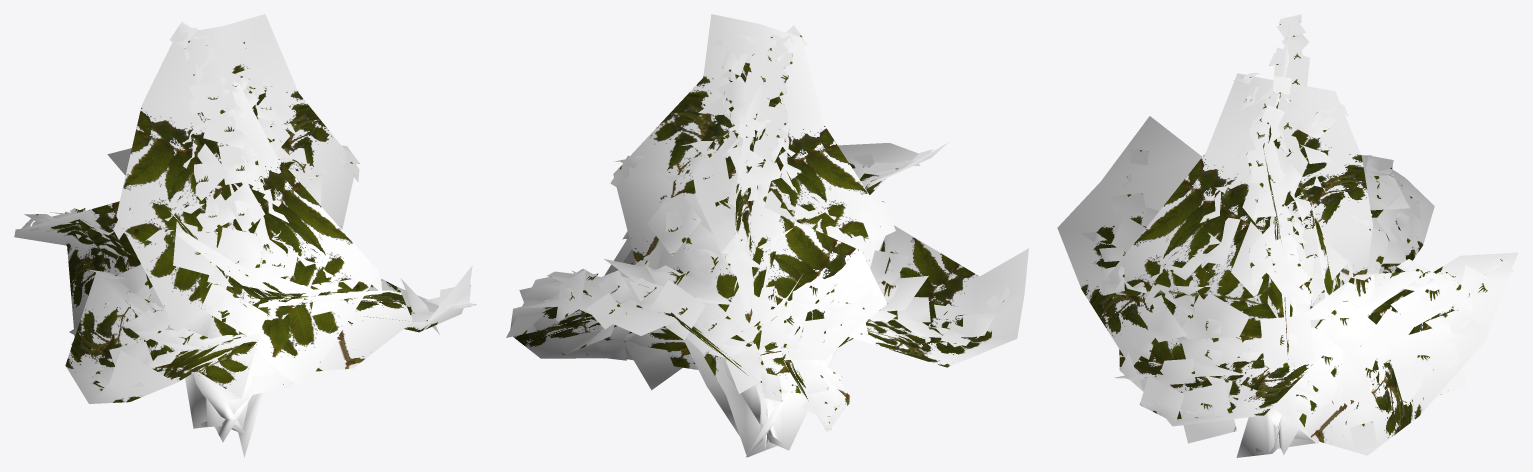
Rendered from bush6.fbx.
The picture shows the model from 3 angles, left to right: view 1: azimuth 30°, elevation 25°; view 2: azimuth 150°, elevation 25°; view 3: azimuth 270°, elevation 25°; orthographic projection. The views are drawn at different scales.
Parts seen in each view (by area): view 1: bush2; view 2: bush2; view 3: bush2.
Part boxes in pixels (bbox=[...]): bush2: bbox=[14, 14, 476, 457]; bush2: bbox=[506, 14, 1028, 457]; bush2: bbox=[1057, 14, 1518, 457].
Size of the model in its own units: 95.03 by 102 by 99.83.
